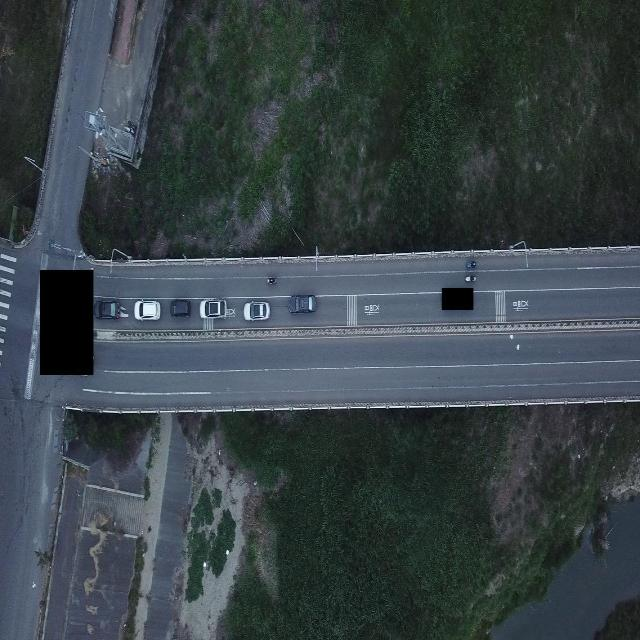bike: (466, 273, 478, 286), (266, 276, 278, 285), (466, 259, 476, 269)
car: (94, 297, 120, 320), (134, 299, 160, 321), (200, 298, 227, 319), (243, 301, 270, 321), (288, 294, 316, 313), (170, 299, 190, 317)
